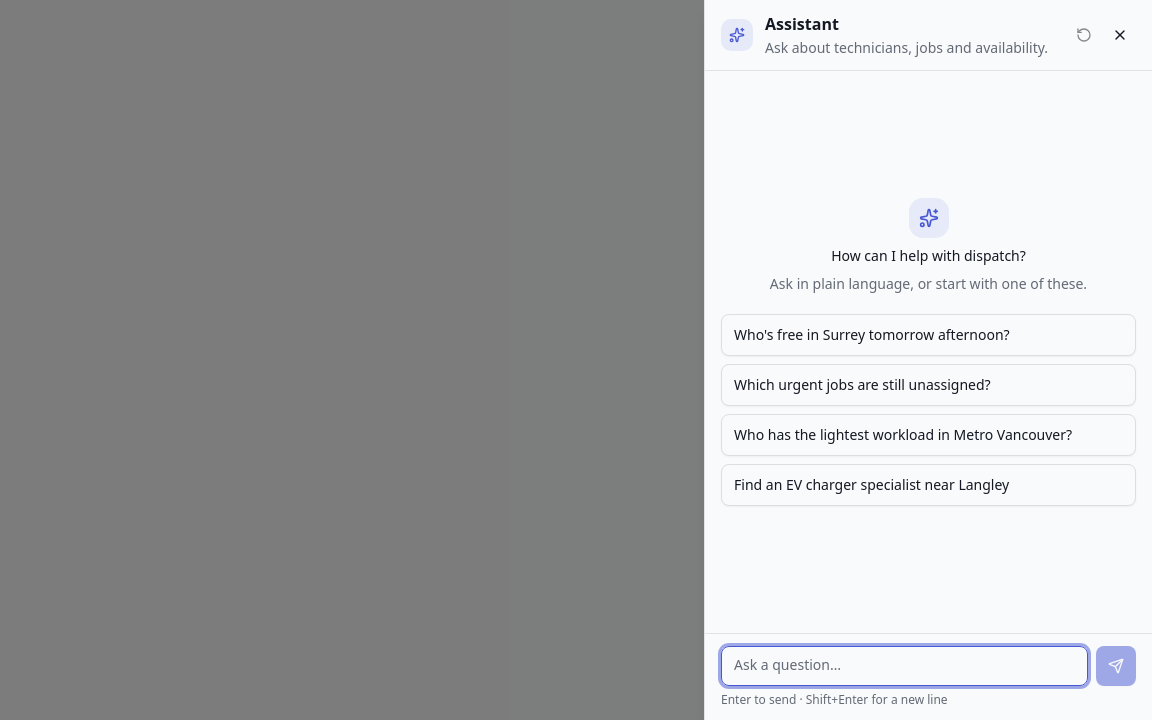
Scenario: AssistantPanel › shows the not-connected notice instead of an answer
Type "Find an EV charger specialist near Langley" into the text box named "Message the assistant" at [904, 666], box x1=721 y1=646 x2=1088 y2=686
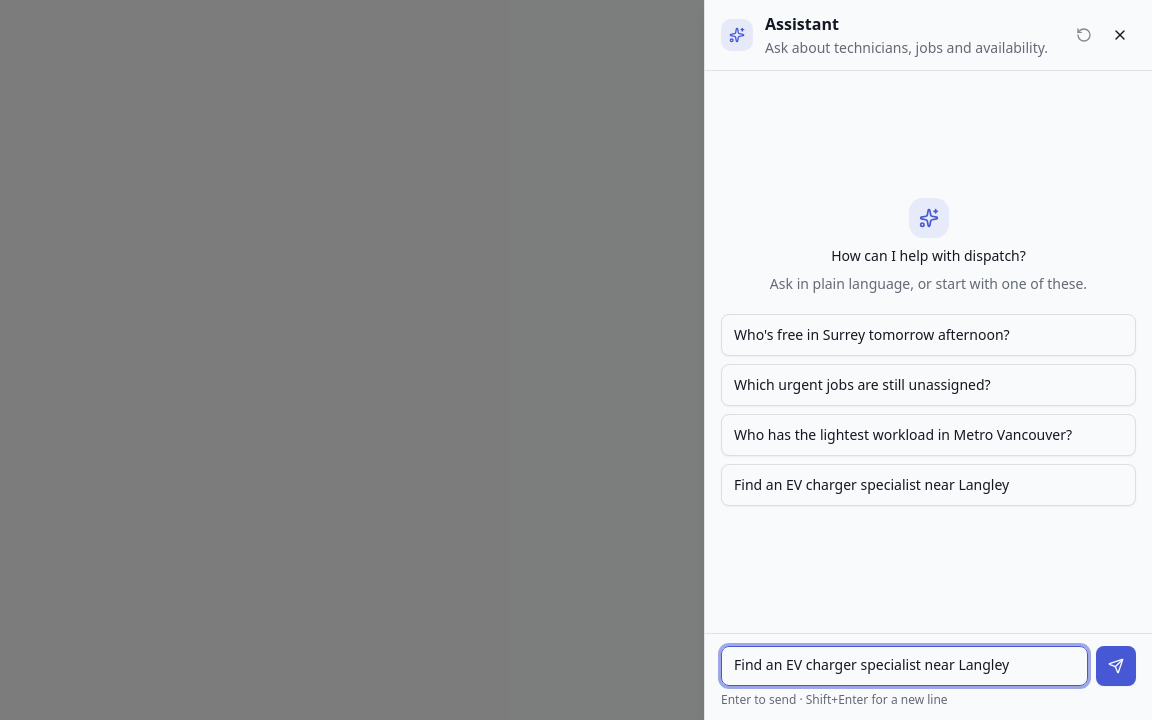
Click the button named "Send message" at [1116, 666], box x1=1096 y1=646 x2=1136 y2=686
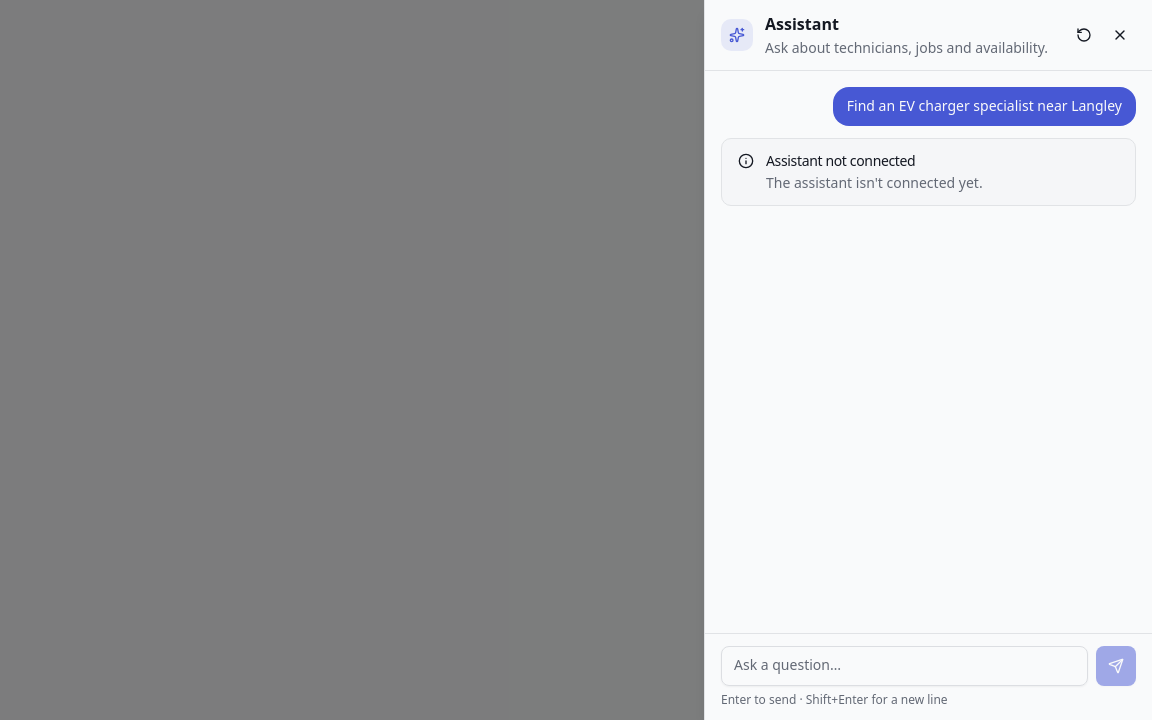
Expected: the message shows "Assistant not connected", x1=766 y1=151 x2=915 y2=170
Expected: the message shows "The assistant isn't connected yet.", x1=766 y1=173 x2=983 y2=192
